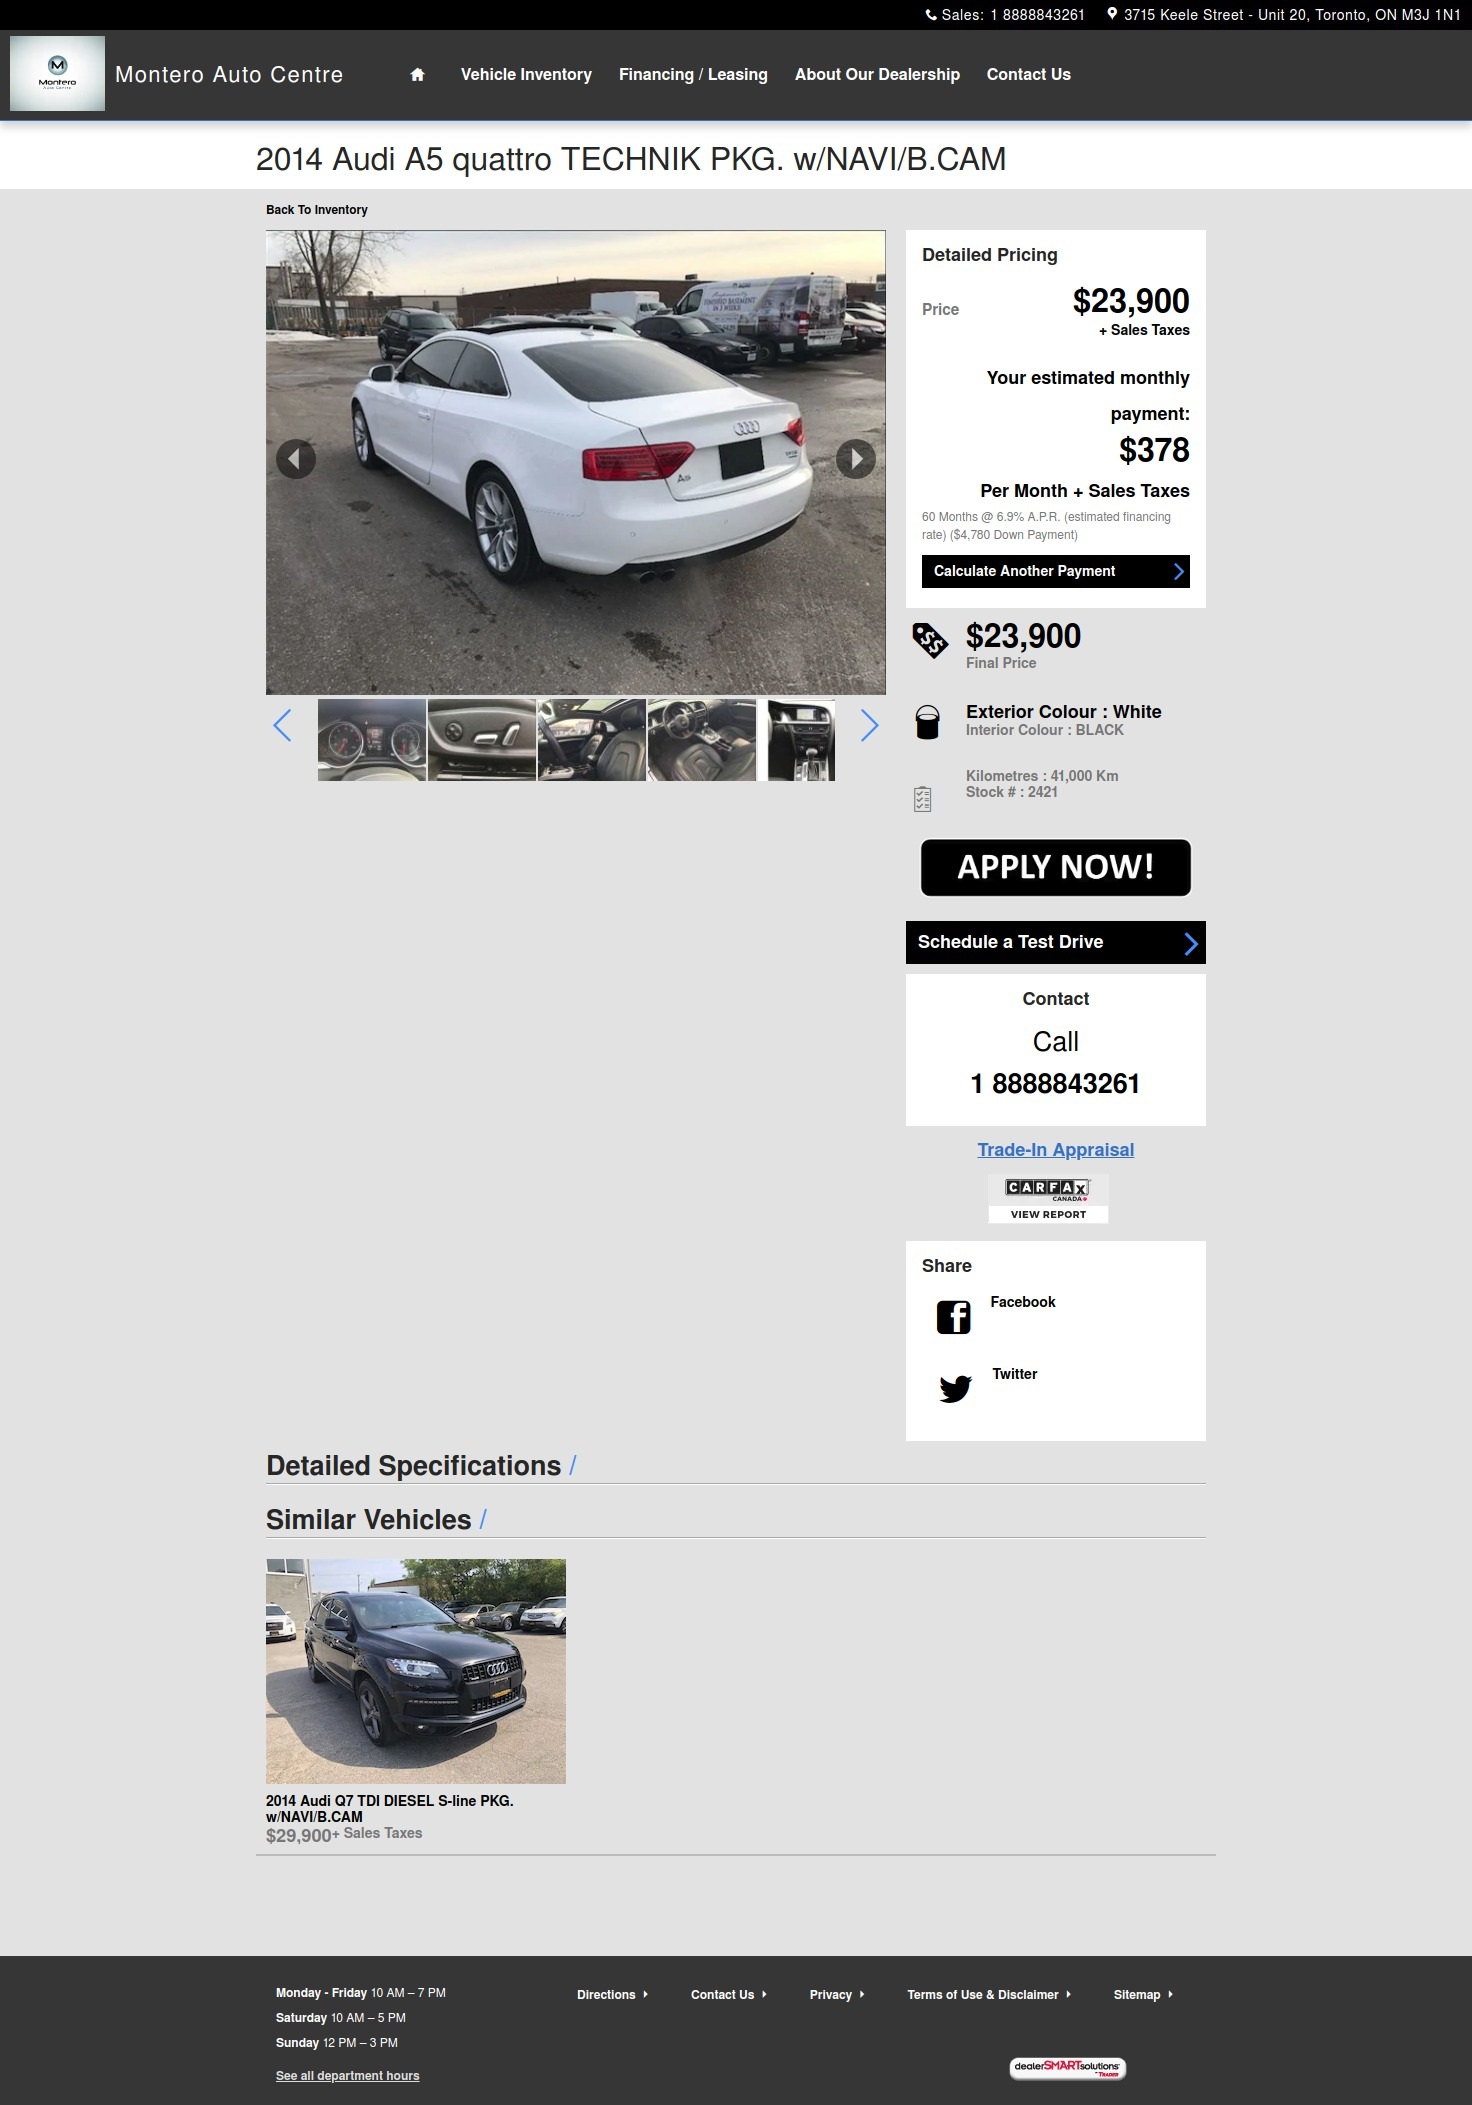car: (861, 707, 880, 744)
